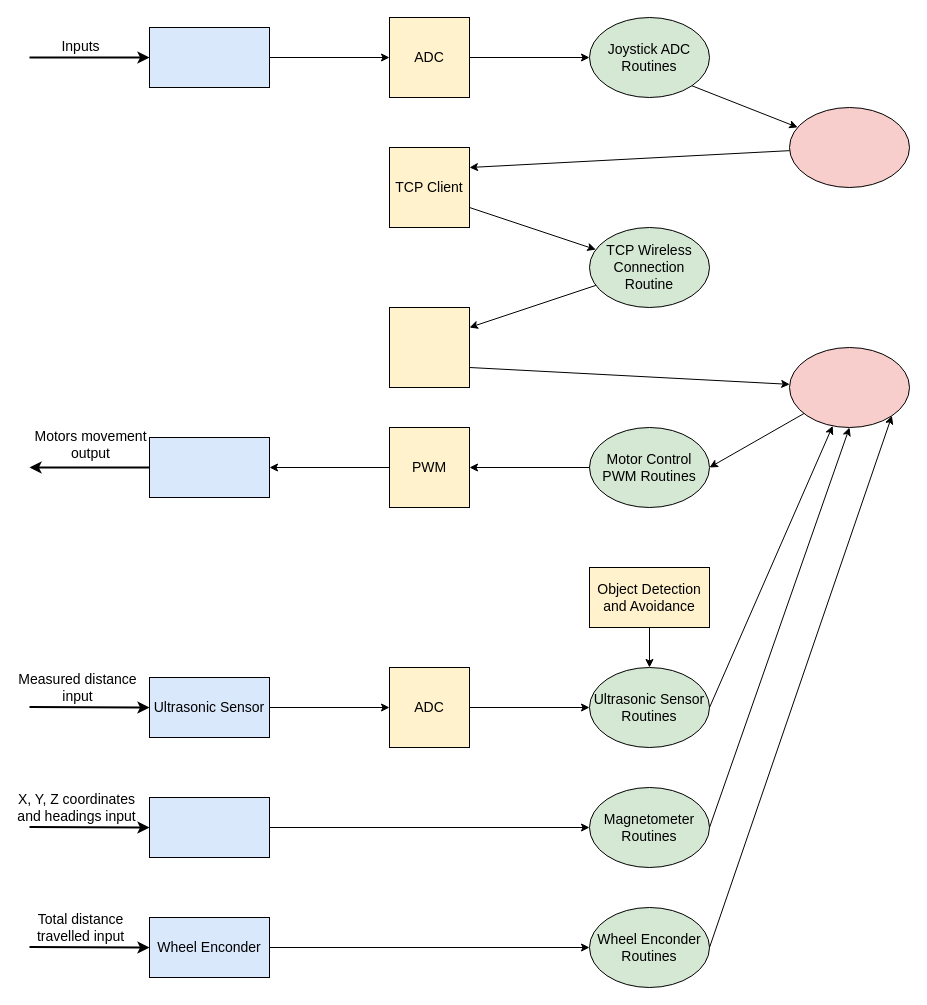
Image size: 927x1005. Some labels were removed from this diagram. Here are the shapes that lost their labels. From the top down, the box of each, then its label:
(148, 26, 270, 88): Joystick
(788, 106, 910, 188): Joystick Control
(388, 306, 470, 388): TCP Server
(788, 346, 910, 428): Main Car Control
(148, 436, 270, 498): Motors
(148, 796, 270, 858): Magnetometer
